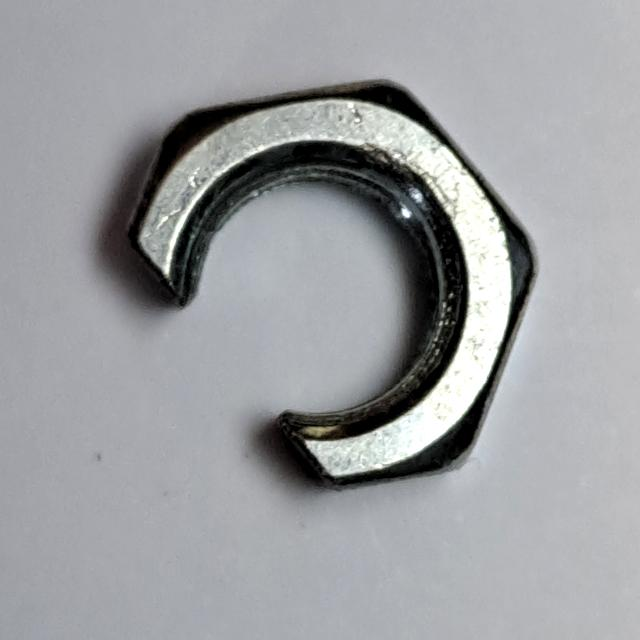Fracture: (111, 72, 550, 502)
